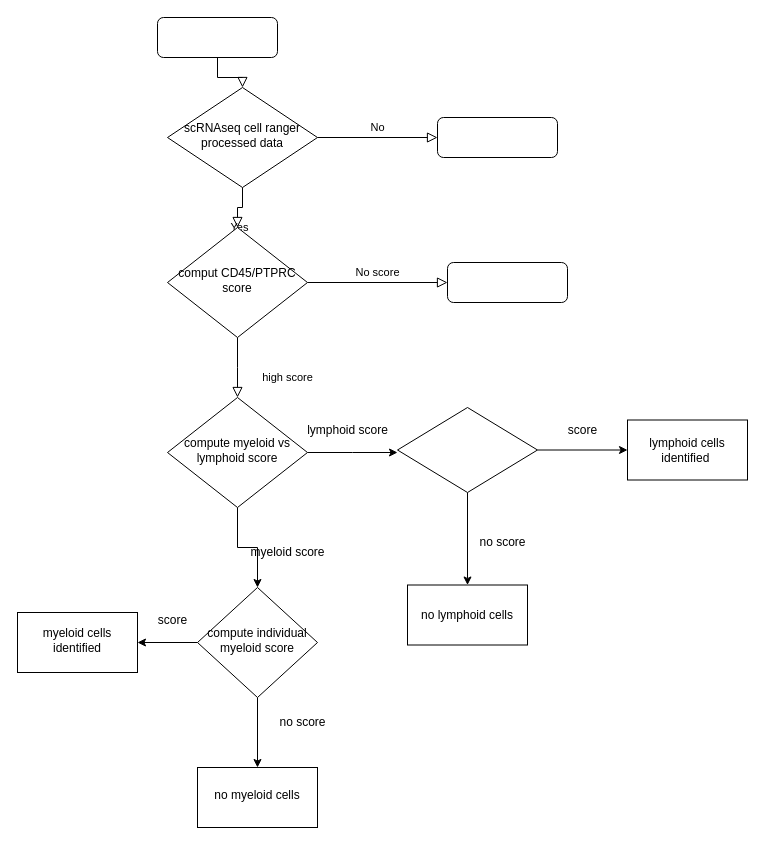
Image size: 765x845. Some labels were removed from this diagram. Each missing label, with the centre of its shape:
"compute individual lymphoid score" goes at (x=467, y=449).
"No immune cells" goes at (x=507, y=282).
"process by Cell Ranger" goes at (x=497, y=137).
"scRNAseq raw data" goes at (x=217, y=37).
